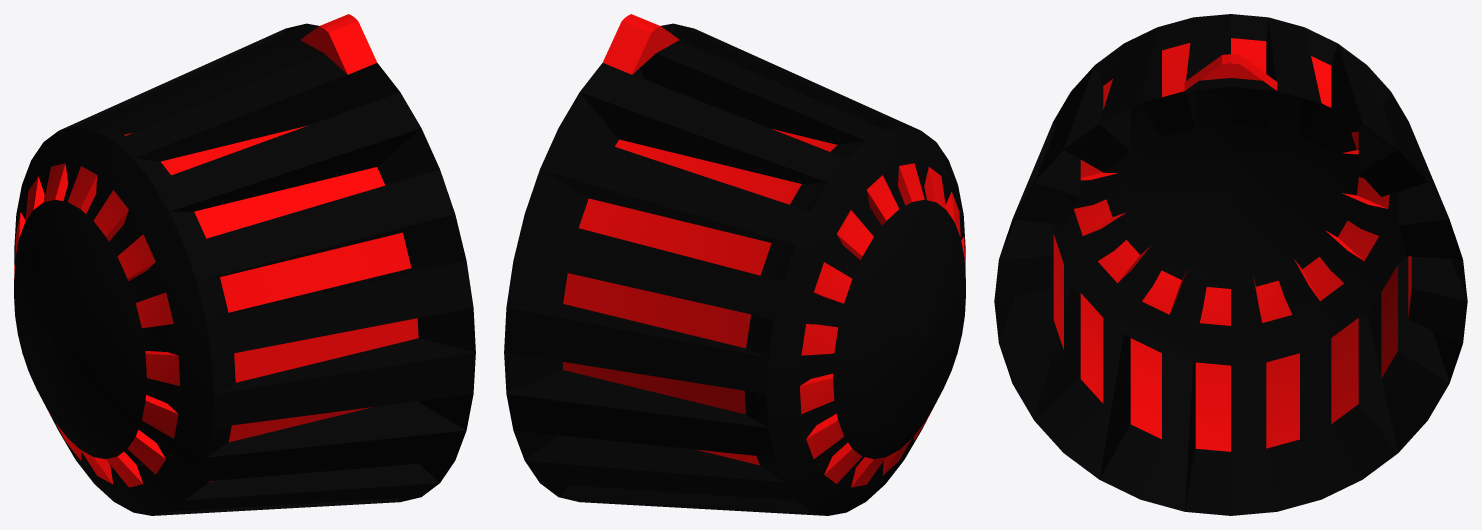
File: Dial.fbx
3 renders of one model, left to right at view 1: azimuth 30°, elevation 25°; view 2: azimuth 150°, elevation 25°; view 3: azimuth 270°, elevation 25°, orthographic. The views are drawn at different scales.
Parts seen in each view (by area): view 1: Dial1; view 2: Dial1; view 3: Dial1.
Part boxes in pixels (x1,y1,x2,y2): Dial1: (14, 14, 475, 515); Dial1: (504, 14, 965, 515); Dial1: (994, 14, 1467, 515).
Size of the model in its own units: 4.55 by 6.76 by 6.41.
